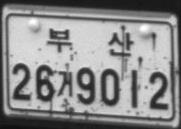0: (99, 67, 120, 107)
1: (125, 69, 144, 108)
2: (148, 70, 169, 110), (11, 61, 31, 100)
6: (35, 63, 54, 101)
9: (76, 66, 96, 105)
거: (56, 70, 73, 97)
부산_D: (46, 27, 134, 56)
